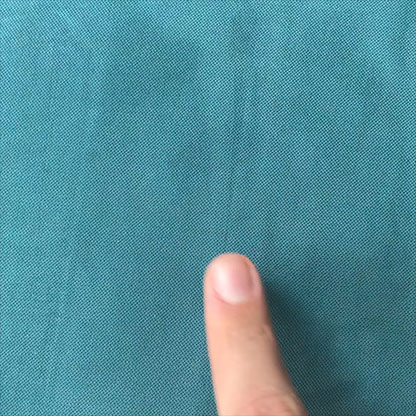fingertip: (186, 238, 279, 314)
